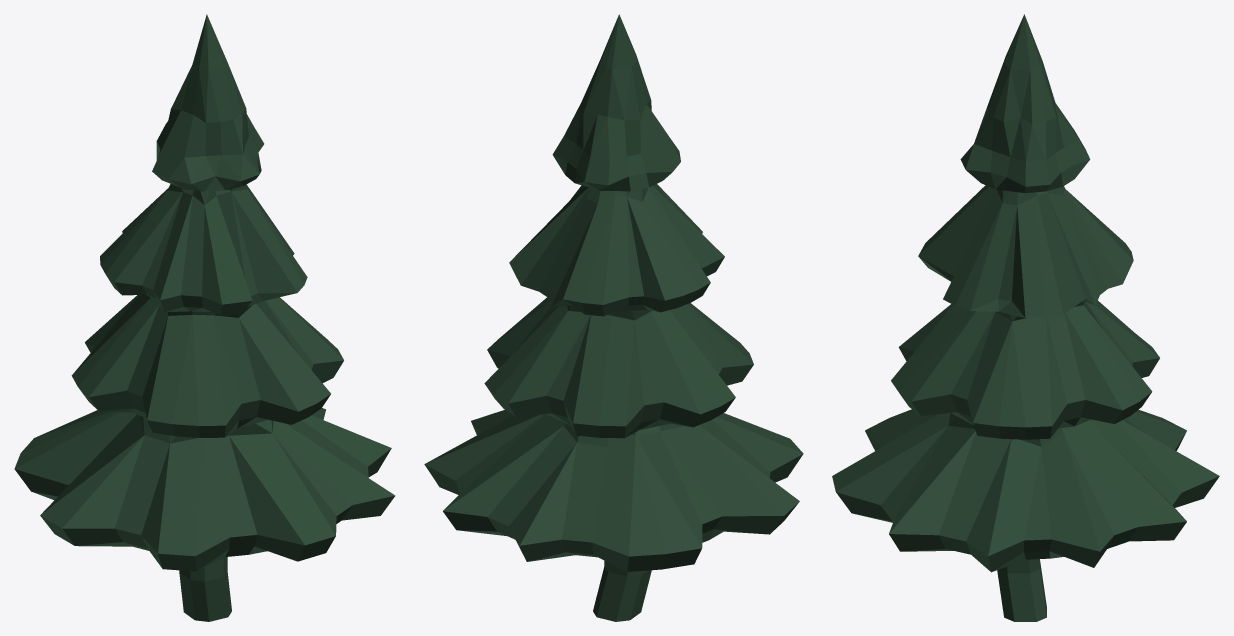
File: tree_9.glb
3 views of the same model, side by side, from view 1: azimuth 30°, elevation 25°; view 2: azimuth 150°, elevation 25°; view 3: azimuth 270°, elevation 25° (orthographic).
Parts seen in each view (by area): view 1: _9_tree; view 2: _9_tree; view 3: _9_tree.
Boxes of the visible parts, bbox=[...] form: _9_tree: bbox=[14, 14, 395, 621]; _9_tree: bbox=[424, 14, 803, 621]; _9_tree: bbox=[832, 14, 1219, 621].
Size of the model in its own units: 0.5932 by 1.02 by 0.5989.
